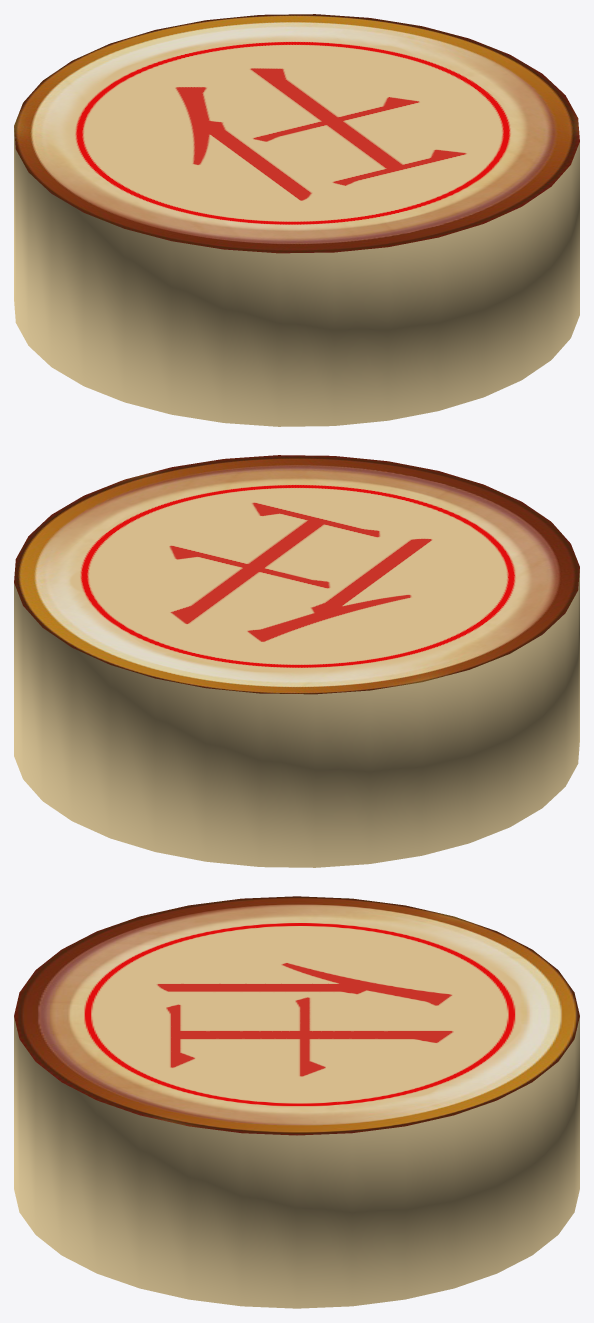
3 views of the same model, one above another, from view 1: azimuth 30°, elevation 25°; view 2: azimuth 150°, elevation 25°; view 3: azimuth 270°, elevation 25° (orthographic).
Visible parts, largest first — view 1: Cylinder.002; view 2: Cylinder.002; view 3: Cylinder.002.
Part boxes in pixels (left/top/right/bottom): Cylinder.002: left=14, top=14, right=579, bottom=426; Cylinder.002: left=14, top=455, right=579, bottom=867; Cylinder.002: left=14, top=896, right=579, bottom=1308.
Size of the model in its own units: 200 by 67.52 by 200.
